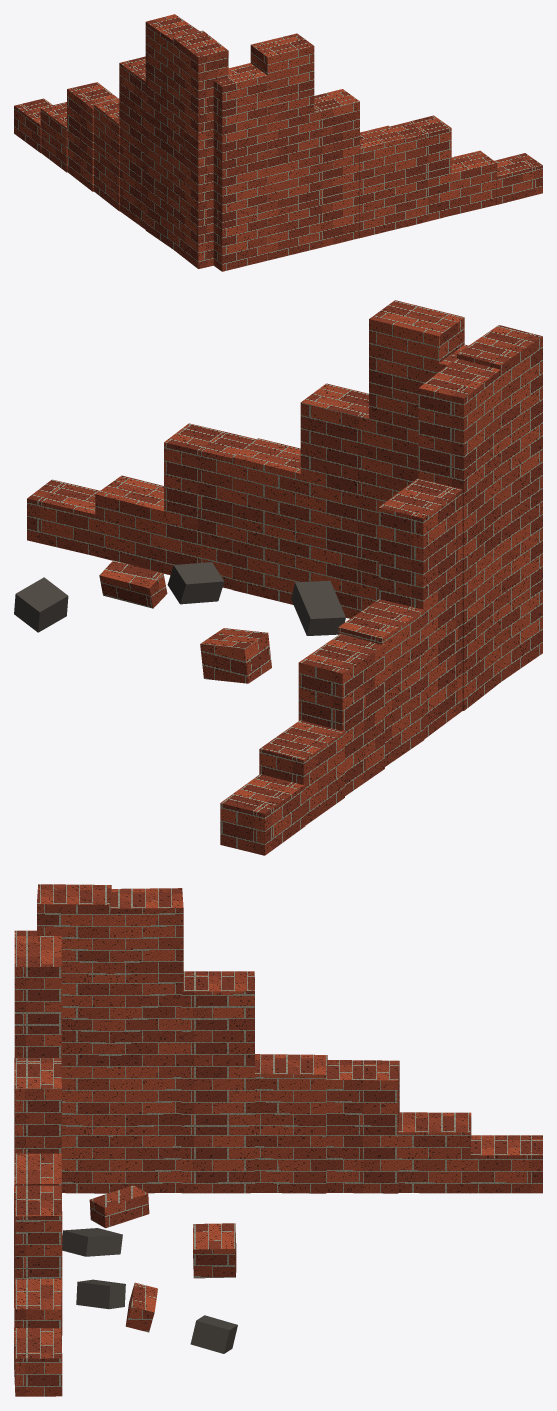
File: wall_remnant.glb
3 views of the same model, one above another, from view 1: azimuth 30°, elevation 25°; view 2: azimuth 150°, elevation 25°; view 3: azimuth 270°, elevation 25° (orthographic). The views are drawn at different scales.
Parts seen in each view (by area): view 1: wall_remnant-col; view 2: wall_remnant-col; view 3: wall_remnant-col.
Boxes of the visible parts, left/top/right/bottom form: wall_remnant-col: left=14, top=14, right=542, bottom=271; wall_remnant-col: left=14, top=300, right=542, bottom=855; wall_remnant-col: left=14, top=884, right=542, bottom=1396.
Size of the model in its own units: 3.15 by 1.92 by 3.15.
Materials: 2 (1 with a texture image).
